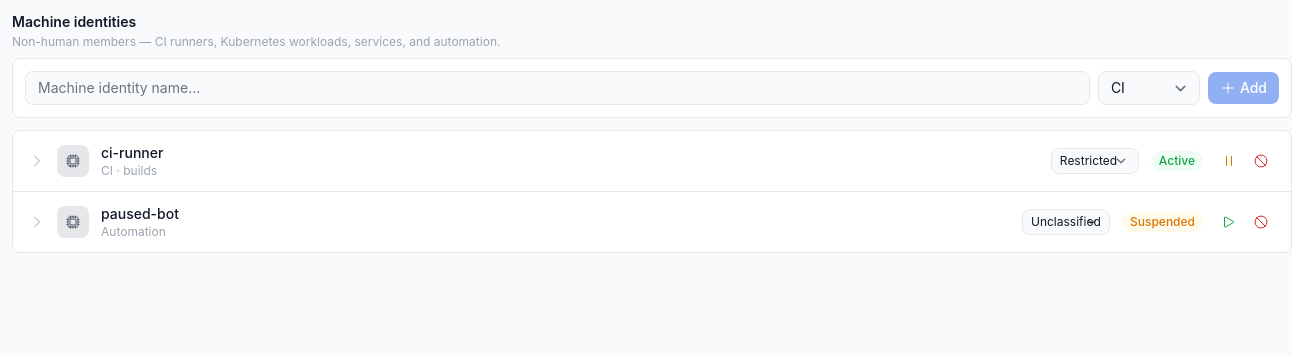
it: MachineIdentitiesSection › expands and collapses the token panel for a machine identity
This screenshot has width=1292, height=356.
Click the button named "Toggle tokens for ci-runner" at (37, 161), box [29, 153, 45, 169]
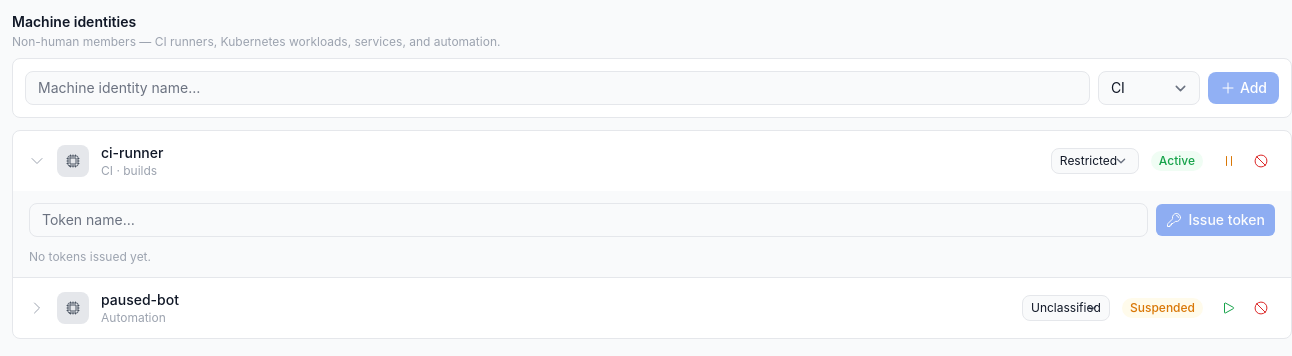
Expected: the text "No tokens issued yet." is shown, [29, 249, 151, 264]
Click the button named "Toggle tokens for ci-runner" at (37, 161), box [29, 153, 45, 169]
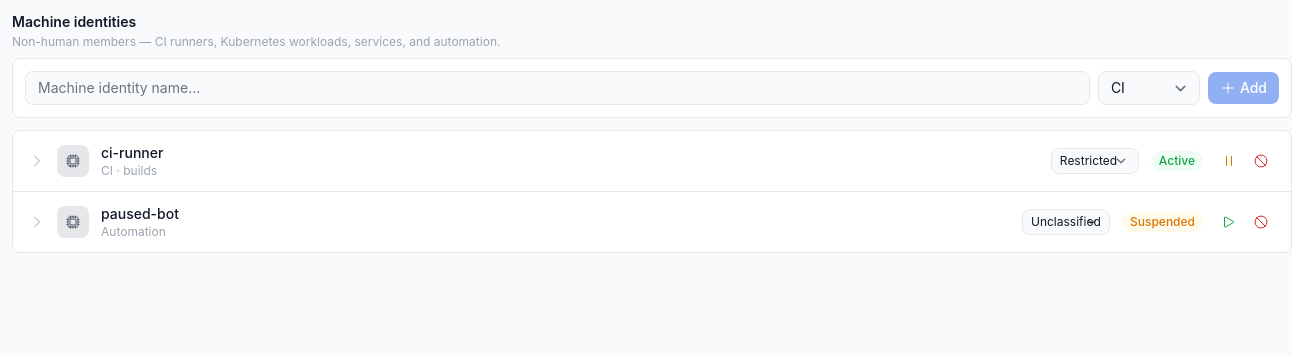
Expected: the text "No tokens issued yet." is gone
